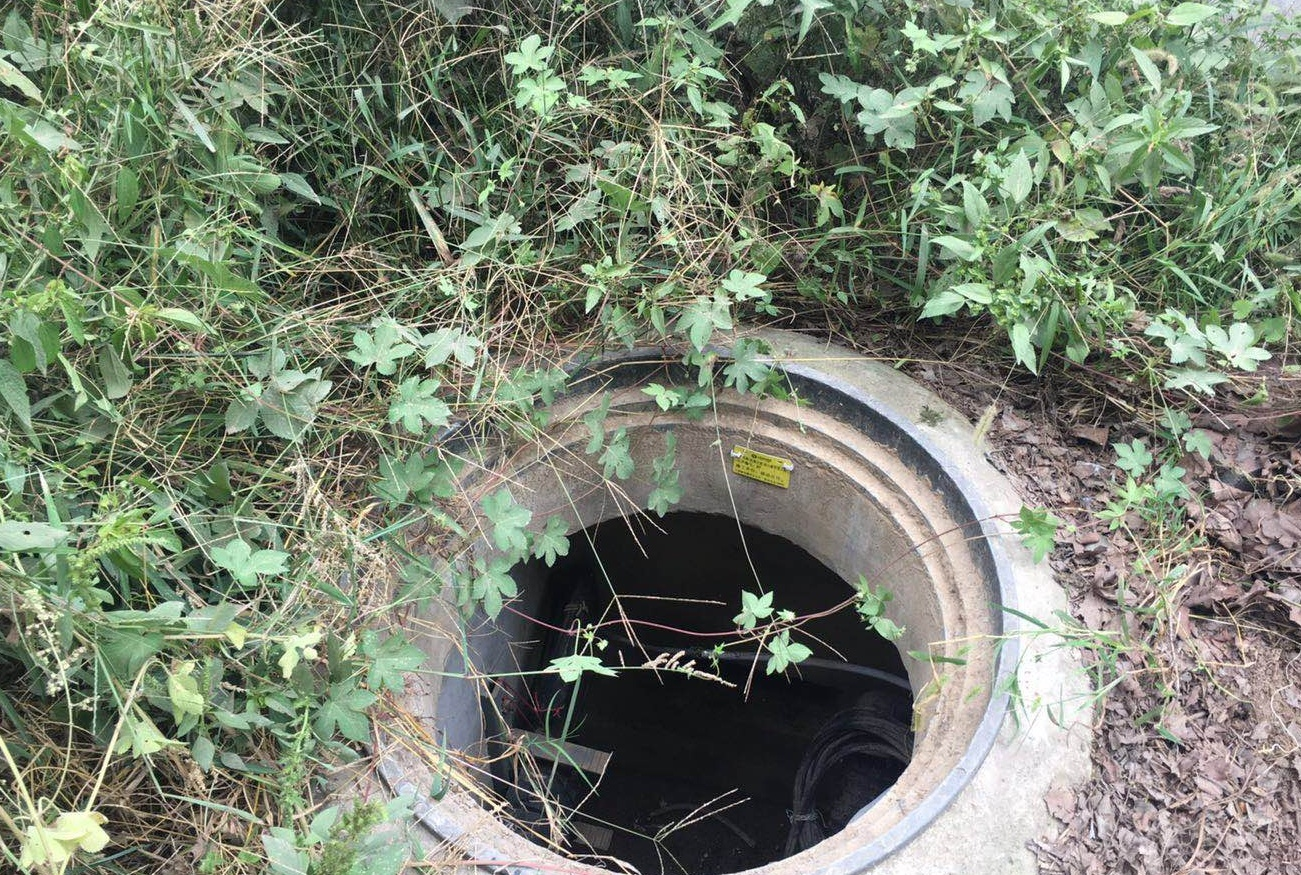well: (361, 349, 1027, 875)
